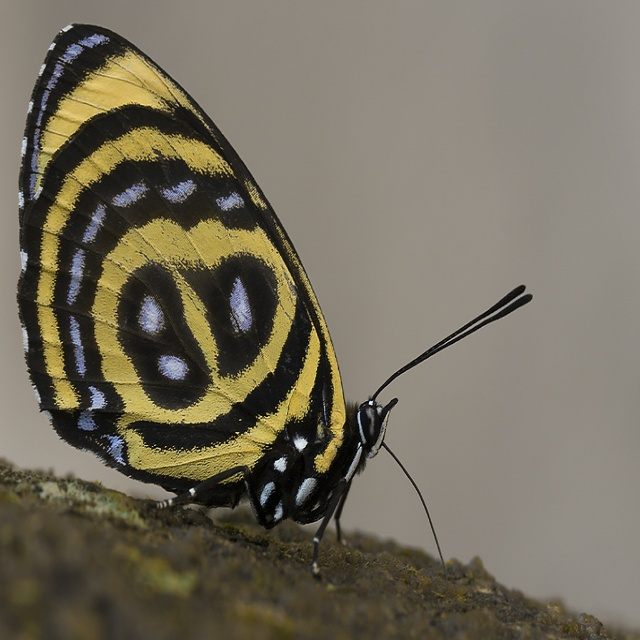Butterfly: (23, 0, 524, 640)
